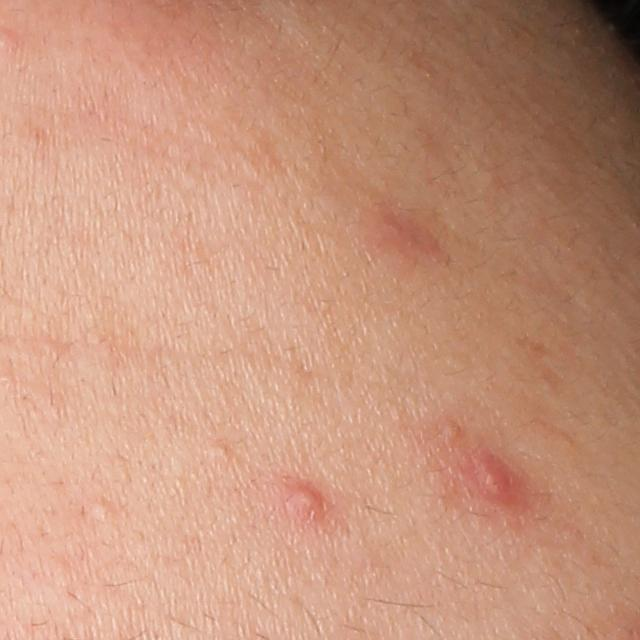comedo: (434, 415, 466, 441), (90, 497, 118, 526), (208, 442, 232, 457)
papule: (464, 449, 526, 511), (279, 479, 328, 528)
